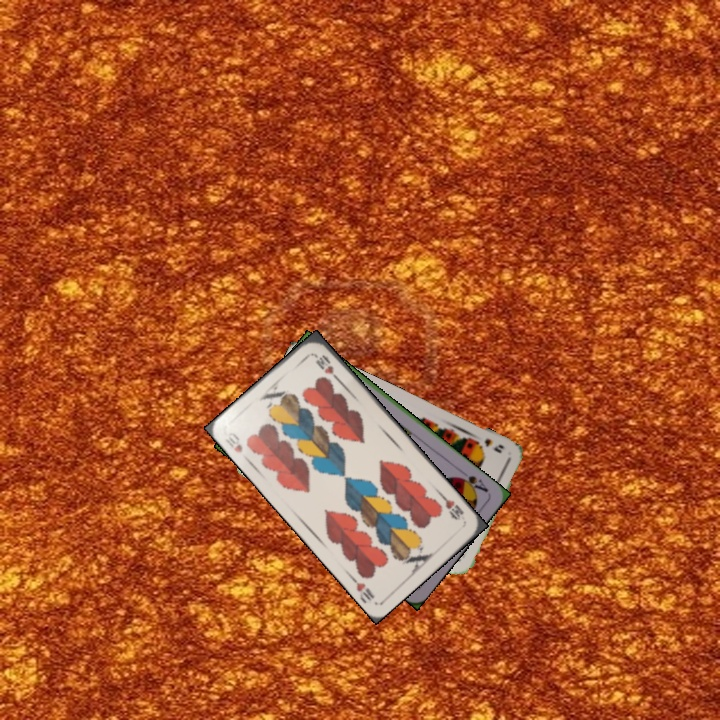H10: (437, 491, 466, 523), (221, 428, 245, 456)
S9: (470, 434, 507, 456)
SA: (452, 471, 491, 495)
